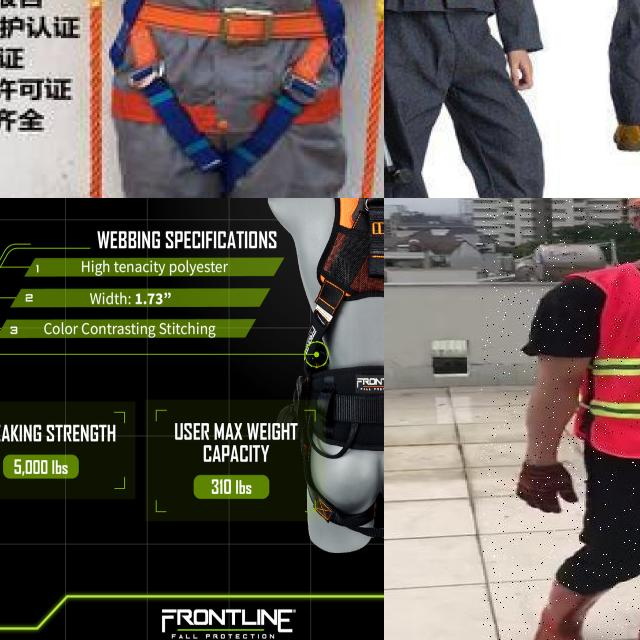Harness: (289, 198, 384, 544), (141, 0, 329, 170)
boots: (530, 577, 600, 640)
hand_noglove: (504, 42, 546, 96)
person: (481, 198, 640, 640), (384, 0, 588, 198)
shoes: (602, 120, 640, 155)
vest: (583, 268, 640, 458)
